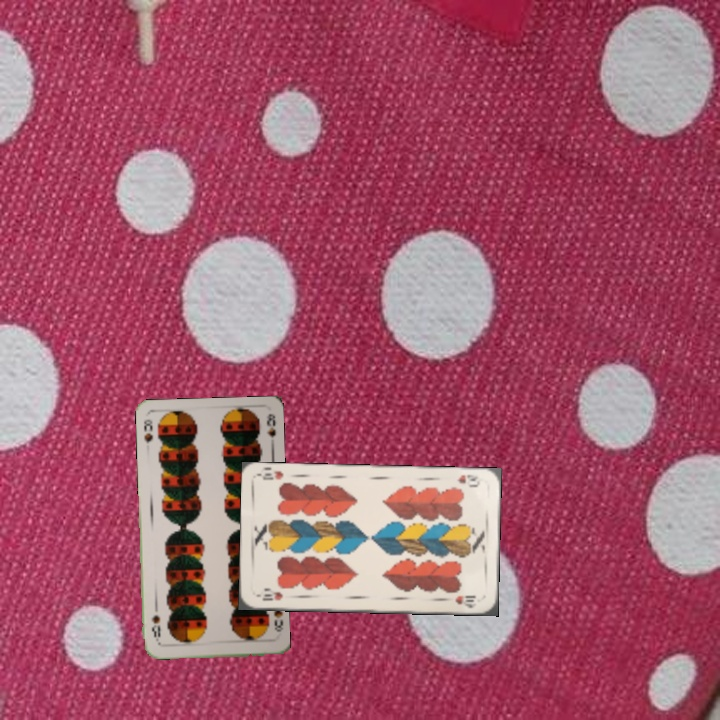H10: (453, 471, 485, 490), (258, 588, 285, 603)
S8: (139, 415, 155, 446), (270, 605, 285, 634)
